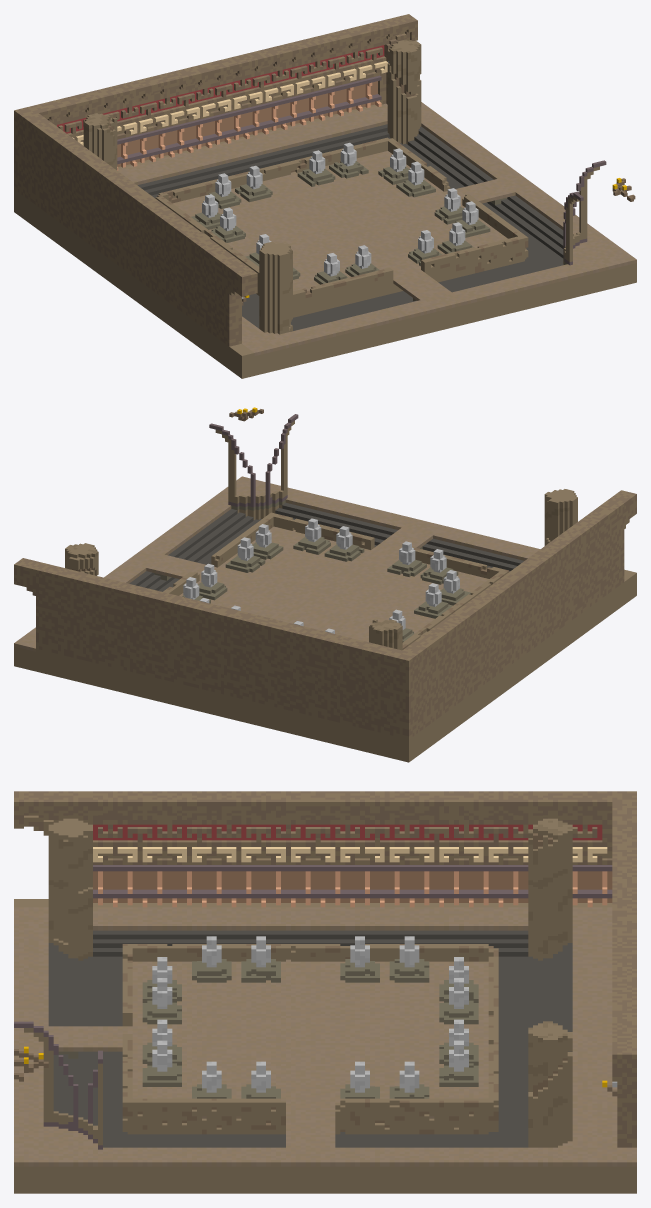
File: Room1-0.obj
The picture shows the model from 3 angles, top to bottom: view 1: azimuth 30°, elevation 25°; view 2: azimuth 150°, elevation 25°; view 3: azimuth 270°, elevation 25°; orthographic projection. The views are drawn at different scales.
Bounding box in the file's own units: 12.6 × 3.1 × 12.6.
Materials: 1 (1 with a texture image).
